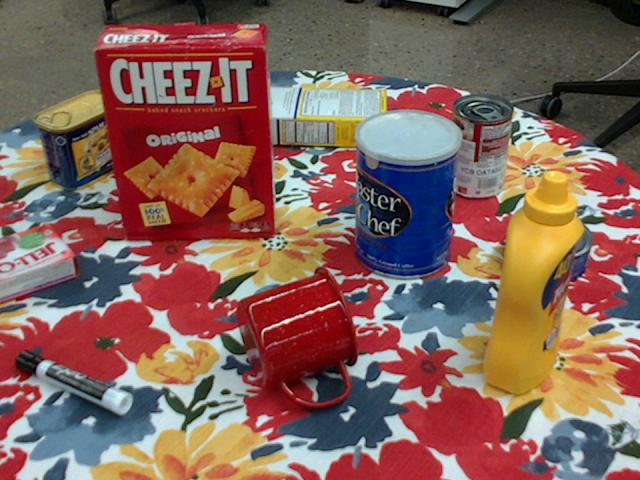cracker_box: (94, 24, 276, 236)
gelatin_box: (0, 223, 79, 303)
large_marker: (15, 349, 132, 414)
master_chef_can: (355, 110, 461, 281)
mug: (236, 266, 361, 408)
mustard_bottle: (483, 171, 582, 394)
potted_meat_can: (33, 89, 125, 189)
sugar_box: (244, 85, 386, 149)
tomato_soup_can: (447, 94, 512, 200)
tuna_fish_can: (504, 213, 591, 285)
